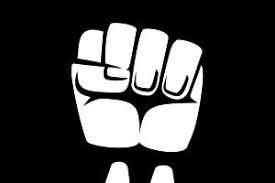fist: (74, 35, 215, 151)
